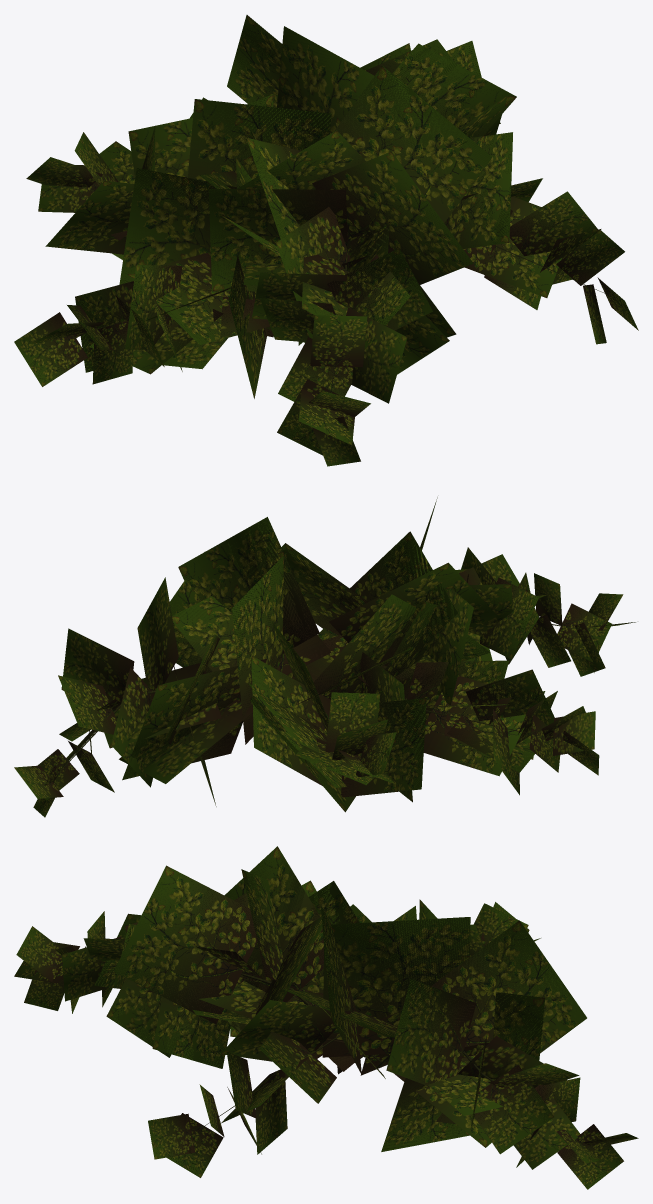
The model's file is BlackBerry 2.fbx.
3 renders of one model, top to bottom at view 1: azimuth 30°, elevation 25°; view 2: azimuth 150°, elevation 25°; view 3: azimuth 270°, elevation 25°, orthographic. The views are drawn at different scales.
Parts seen in each view (by area): view 1: BlackBerry_2; view 2: BlackBerry_2; view 3: BlackBerry_2.
Boxes of the visible parts, x1,y1,x2,y2 form: BlackBerry_2: [14, 15, 638, 466]; BlackBerry_2: [14, 497, 635, 817]; BlackBerry_2: [14, 846, 638, 1189].
Bounding box in the file's own units: 366 × 176 × 412.
